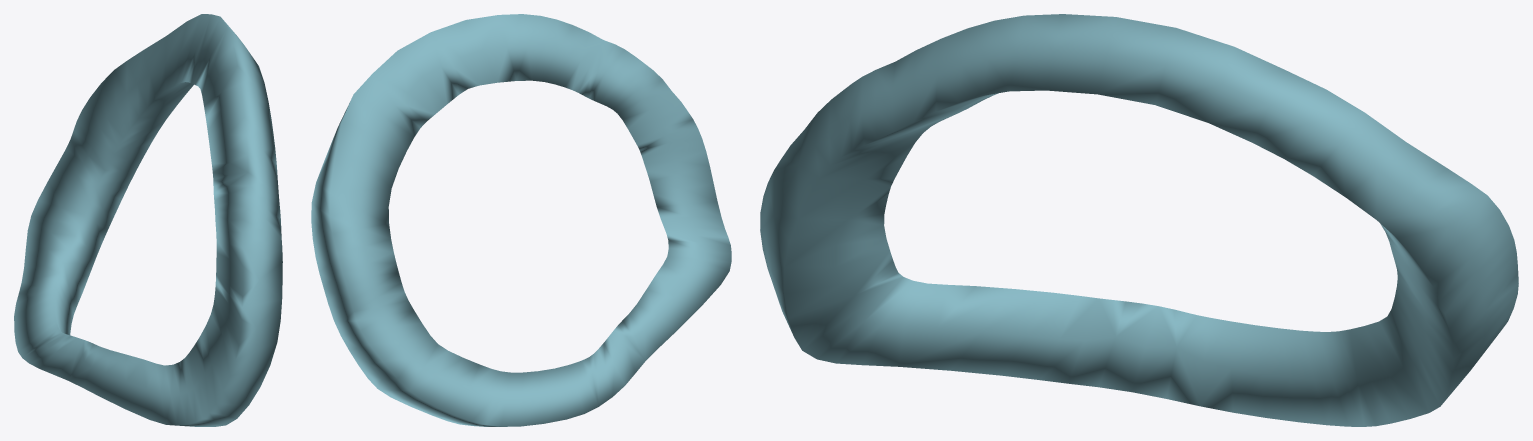
The picture shows the model from 3 angles, left to right: view 1: azimuth 30°, elevation 25°; view 2: azimuth 150°, elevation 25°; view 3: azimuth 270°, elevation 25°; orthographic projection. The views are drawn at different scales.
Parts seen in each view (by area): view 1: 左侧关节盂唇; view 2: 左侧关节盂唇; view 3: 左侧关节盂唇.
Part boxes in pixels (x1,y1,x2,y2): 左侧关节盂唇: [14, 14, 282, 426]; 左侧关节盂唇: [311, 14, 731, 426]; 左侧关节盂唇: [760, 14, 1518, 426].
Size of the model in its own units: 0.028 by 0.0372 by 0.0527.
